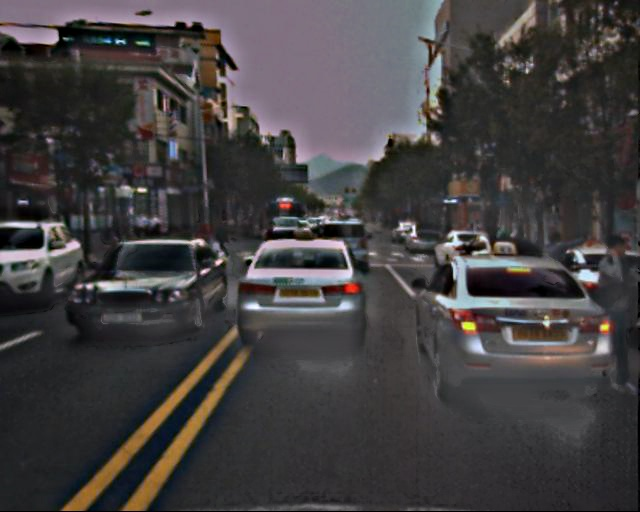person: (582, 237, 640, 396), (538, 231, 574, 319), (106, 207, 163, 241), (215, 216, 234, 262), (198, 218, 215, 260)
